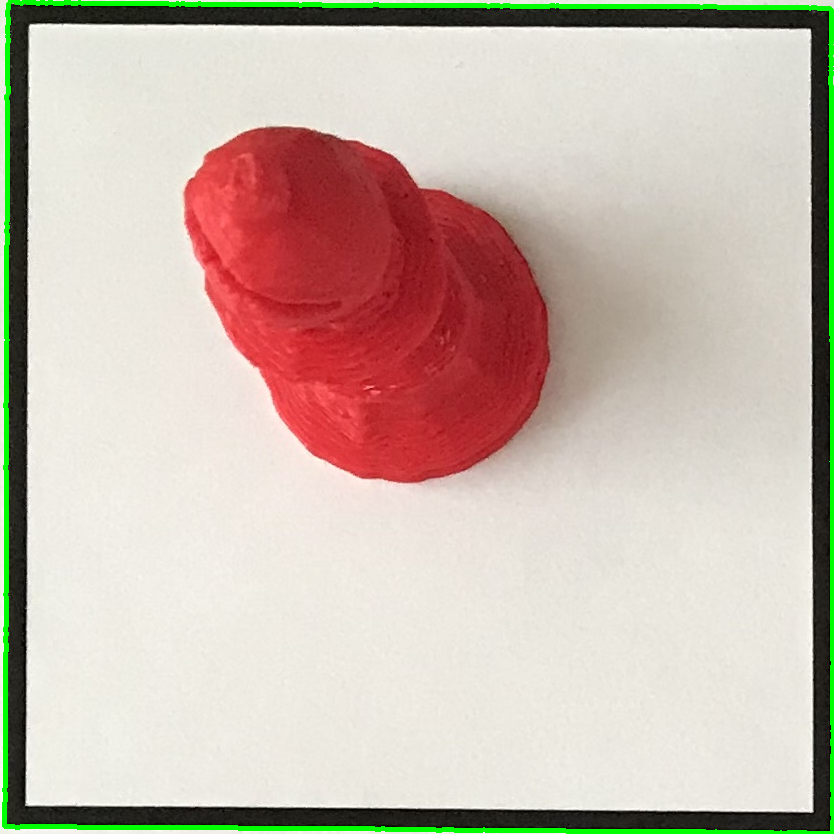Red Bishop: (161, 114, 580, 503)
